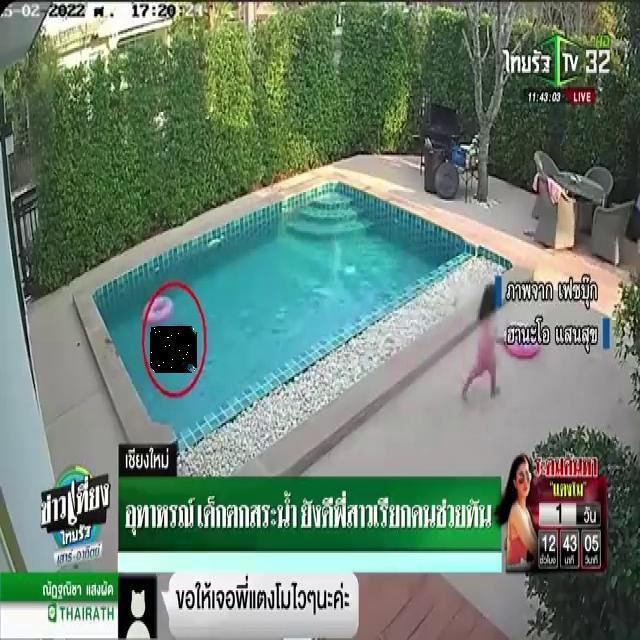Out of Water: (152, 328, 196, 372)
